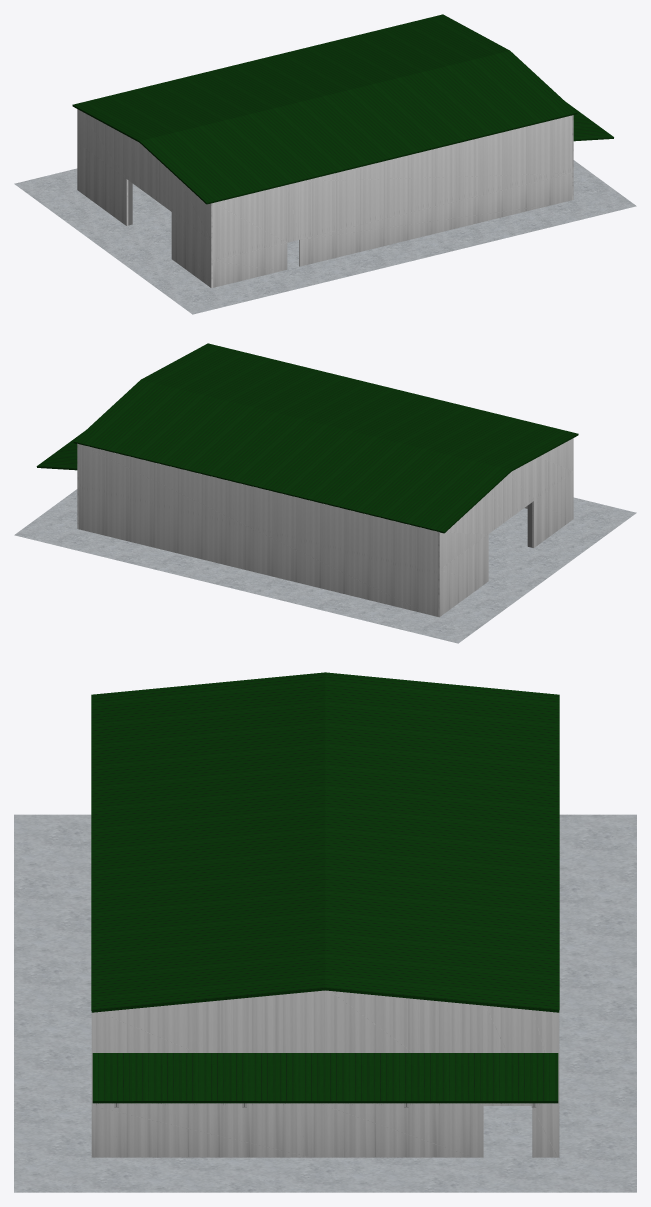
The model's file is 210729_01_testhalle_02.glb.
3 renders of one model, top to bottom at view 1: azimuth 30°, elevation 25°; view 2: azimuth 150°, elevation 25°; view 3: azimuth 270°, elevation 25°, orthographic. The views are drawn at different scales.
Parts seen in each view (by area): view 1: roof, wall_001.001, floor, wall_001.003, Cube.002; view 2: roof, wall_001, floor, wall_001.003, Cube.002; view 3: roof, floor, wall_001.002, Cube.002.
Boxes of the visible parts, box(x1,y1,x2,y2) form: roof: box(72, 14, 577, 204); wall_001.001: box(213, 115, 571, 287); floor: box(14, 160, 636, 314); wall_001.003: box(77, 109, 212, 288); Cube.002: box(566, 102, 613, 141); roof: box(73, 343, 578, 533); wall_001: box(79, 444, 437, 616); floor: box(14, 489, 636, 643); wall_001.003: box(438, 438, 573, 617); Cube.002: box(36, 431, 84, 470); roof: box(91, 672, 559, 1012); floor: box(14, 814, 636, 1192); wall_001.002: box(91, 990, 559, 1157); Cube.002: box(92, 1053, 558, 1103).
Size of the model in its own units: 34.47 by 7.49 by 24.01.
Materials: 5 (3 with a texture image).
